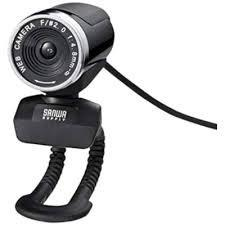tutu: (6, 2, 126, 104)
